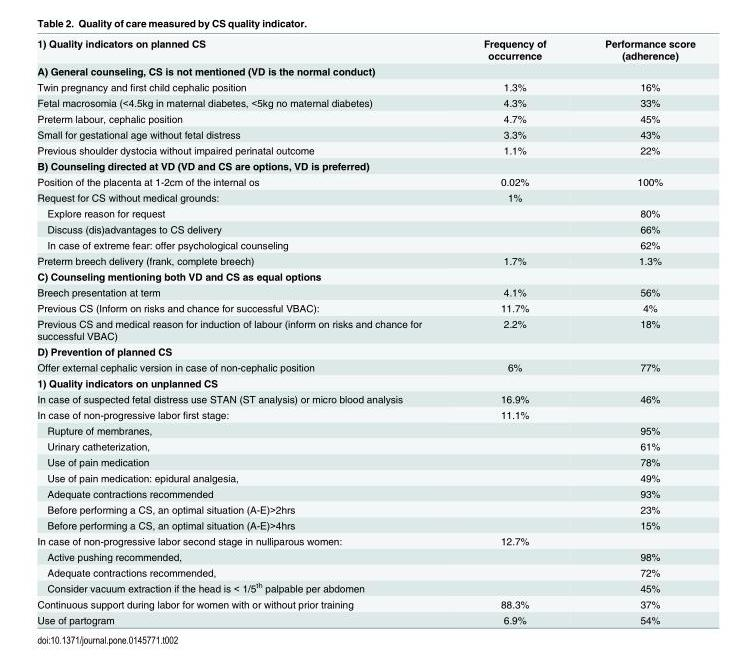table: (36, 37, 694, 625)
table column: (36, 37, 451, 625), (451, 37, 574, 625), (574, 37, 694, 625)
table projected row header: (36, 62, 694, 78), (36, 157, 694, 173), (36, 268, 694, 284), (36, 343, 694, 359), (36, 374, 694, 390)
table row: (36, 315, 694, 343), (36, 37, 694, 62), (36, 62, 694, 78), (36, 78, 694, 94), (36, 94, 694, 110), (36, 110, 694, 126), (36, 126, 694, 142), (36, 157, 694, 173), (36, 173, 694, 189), (36, 189, 694, 205), (36, 220, 694, 236), (36, 236, 694, 252), (36, 252, 694, 268), (36, 268, 694, 284), (36, 299, 694, 315), (36, 343, 694, 359), (36, 374, 694, 390), (36, 390, 694, 406), (36, 406, 694, 422), (36, 422, 694, 438), (36, 453, 694, 469), (36, 469, 694, 485), (36, 485, 694, 501), (36, 516, 694, 532), (36, 532, 694, 548), (36, 548, 694, 564), (36, 579, 694, 595), (36, 595, 694, 611), (36, 142, 694, 157), (36, 205, 694, 220), (36, 284, 694, 299), (36, 359, 694, 374), (36, 438, 694, 453), (36, 501, 694, 516), (36, 564, 694, 579), (36, 611, 694, 625)
